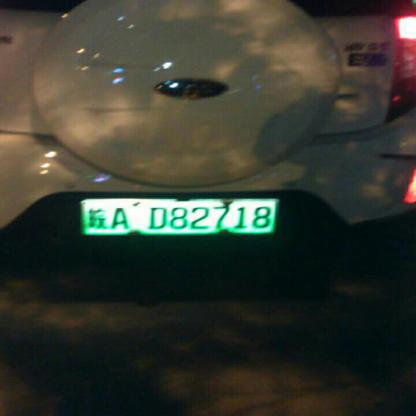lp: (80, 198, 277, 236)
